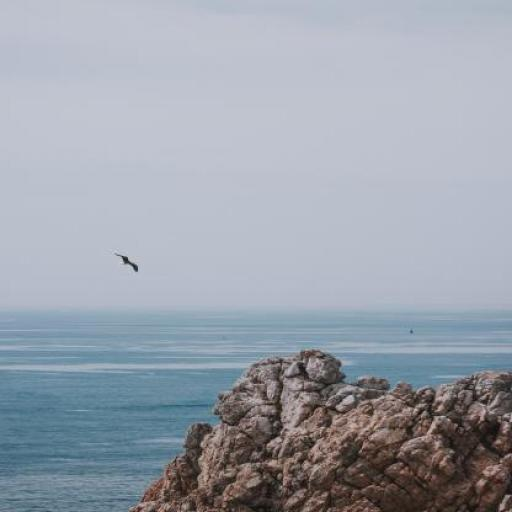bird: (115, 254, 139, 272)
